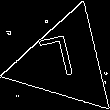L_S: (43, 34, 86, 90)
